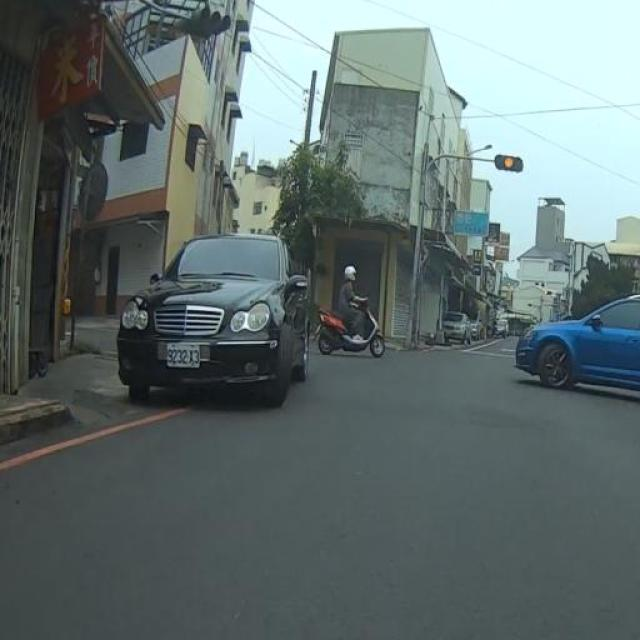illegalparking: (119, 234, 311, 405), (515, 296, 639, 390)
